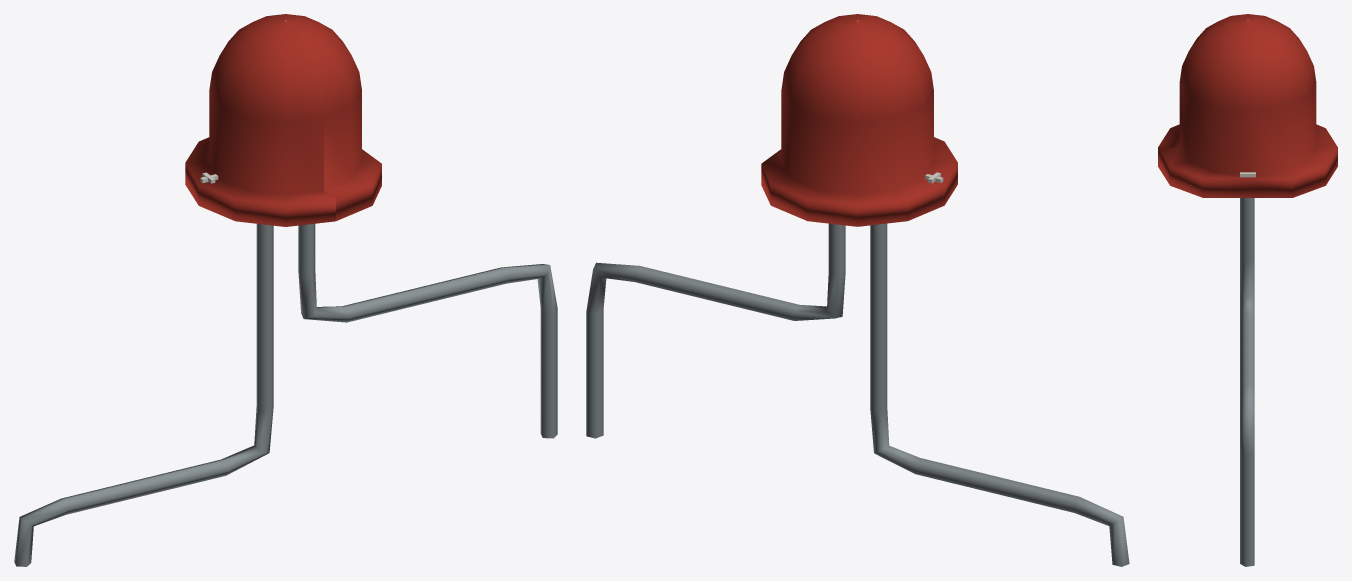
File: led.glb
3 renders of one model, left to right at view 1: azimuth 30°, elevation 25°; view 2: azimuth 150°, elevation 25°; view 3: azimuth 270°, elevation 25°, orthographic. The views are drawn at different scales.
Parts seen in each view (by area): view 1: cupula_apagada_malha, led_pernas; view 2: cupula_apagada_malha, led_pernas; view 3: cupula_apagada_malha, led_pernas.
Part boxes in pixels (box(x1,y1,x2,y2)): cupula_apagada_malha: box(185, 14, 381, 226); led_pernas: box(14, 223, 557, 566); cupula_apagada_malha: box(761, 14, 957, 226); led_pernas: box(586, 223, 1129, 566); cupula_apagada_malha: box(1158, 14, 1337, 197); led_pernas: box(1240, 198, 1254, 566).
Bounding box in the file's own units: 0.3114 × 0.263 × 0.1.
